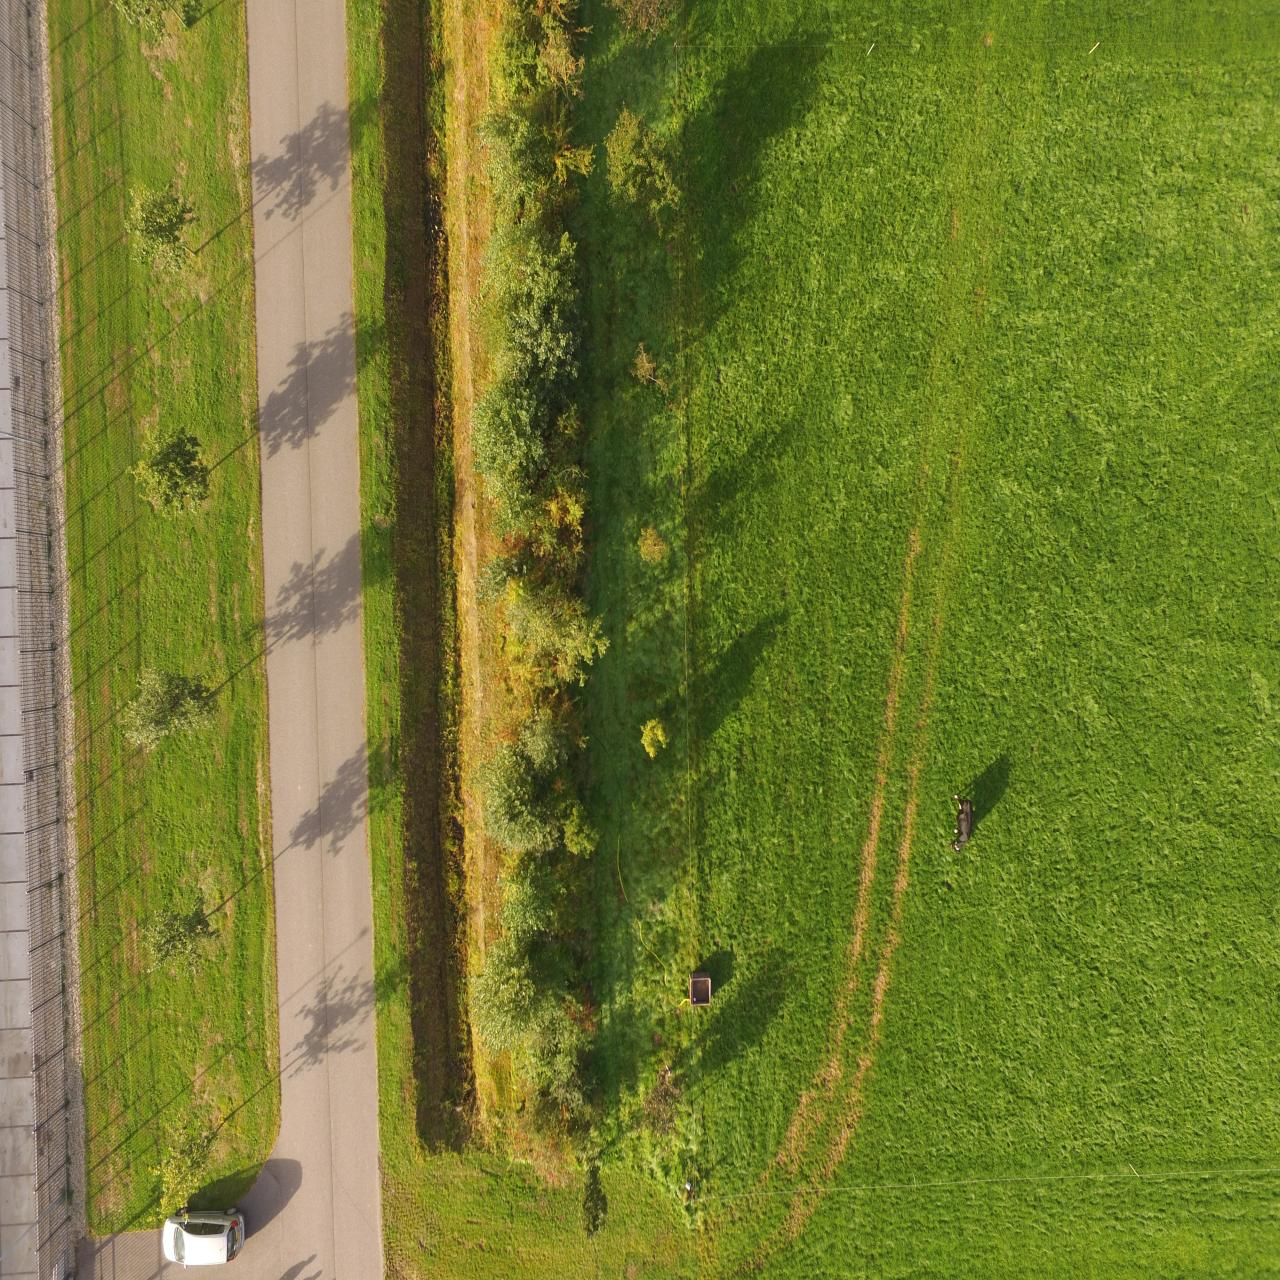cow: (949, 791, 975, 854)
